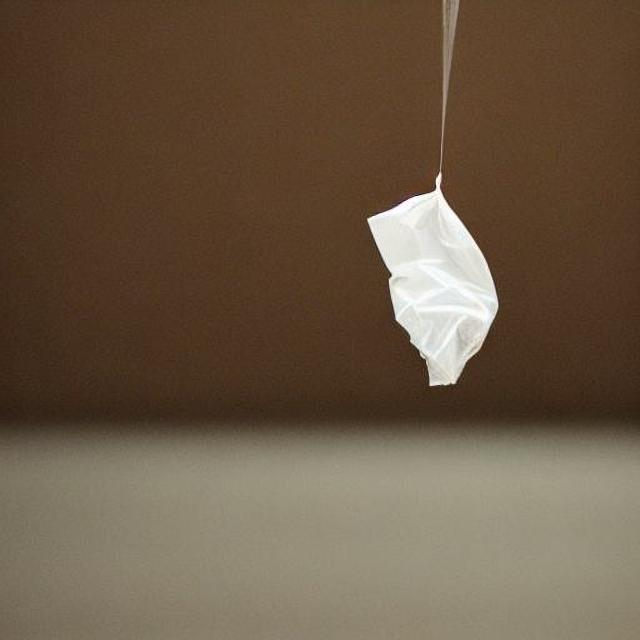plastic bag: (366, 170, 496, 384)
